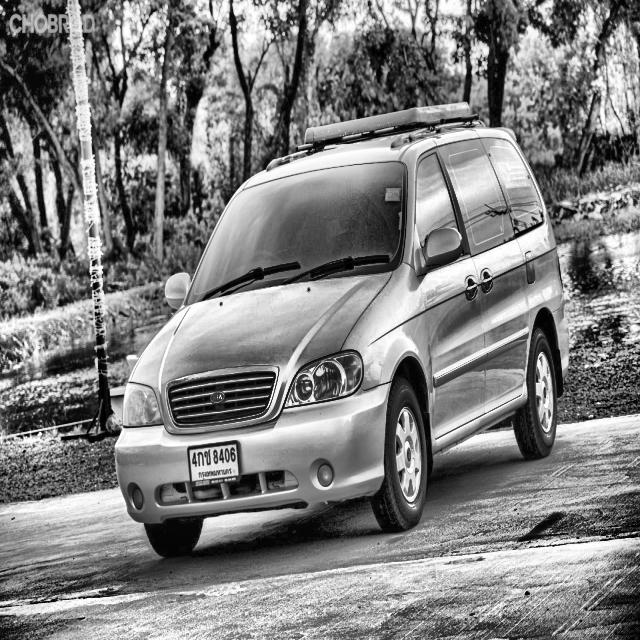license-plate: (188, 439, 242, 488)
